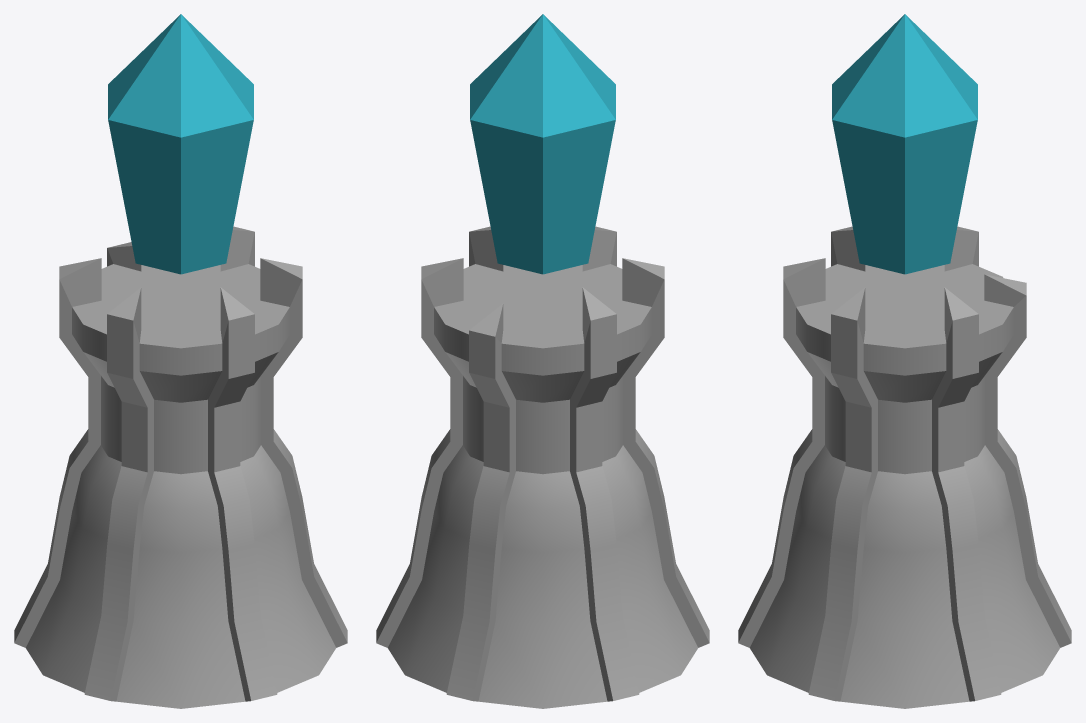
The model's file is SM_Tower_Slow.fbx.
3 renders of one model, left to right at view 1: azimuth 30°, elevation 25°; view 2: azimuth 150°, elevation 25°; view 3: azimuth 270°, elevation 25°, orthographic.
Parts seen in each view (by area): view 1: Tower_Slow, Crystal_Slow; view 2: Tower_Slow, Crystal_Slow; view 3: Tower_Slow, Crystal_Slow.
Part boxes in pixels (<box>): Tower_Slow: <box>14,226,347,708</box>; Crystal_Slow: <box>108,14,253,274</box>; Tower_Slow: <box>376,226,709,708</box>; Crystal_Slow: <box>470,14,615,274</box>; Tower_Slow: <box>738,226,1071,708</box>; Crystal_Slow: <box>832,14,977,274</box>.
Size of the model in its own units: 112 by 244 by 118.
